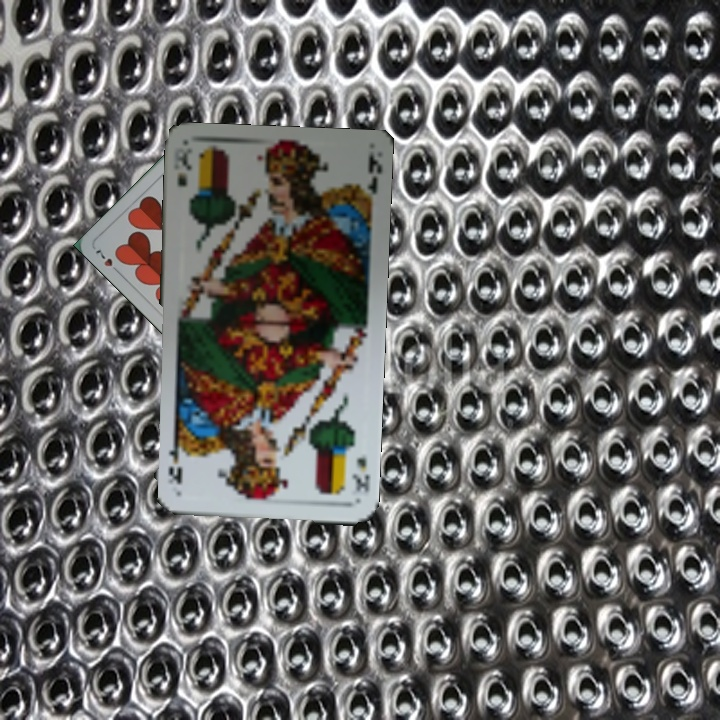EK: (347, 453, 372, 496), (171, 146, 194, 190)
H7: (91, 244, 123, 277)
